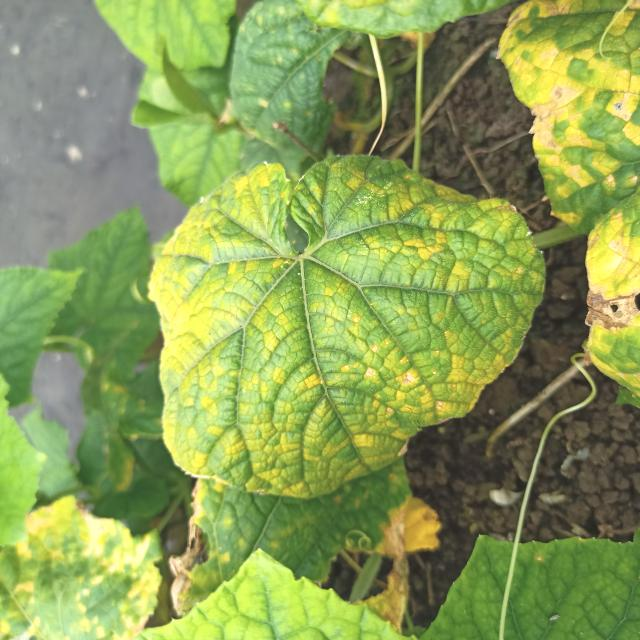disease_cucumber: (151, 159, 534, 499)
